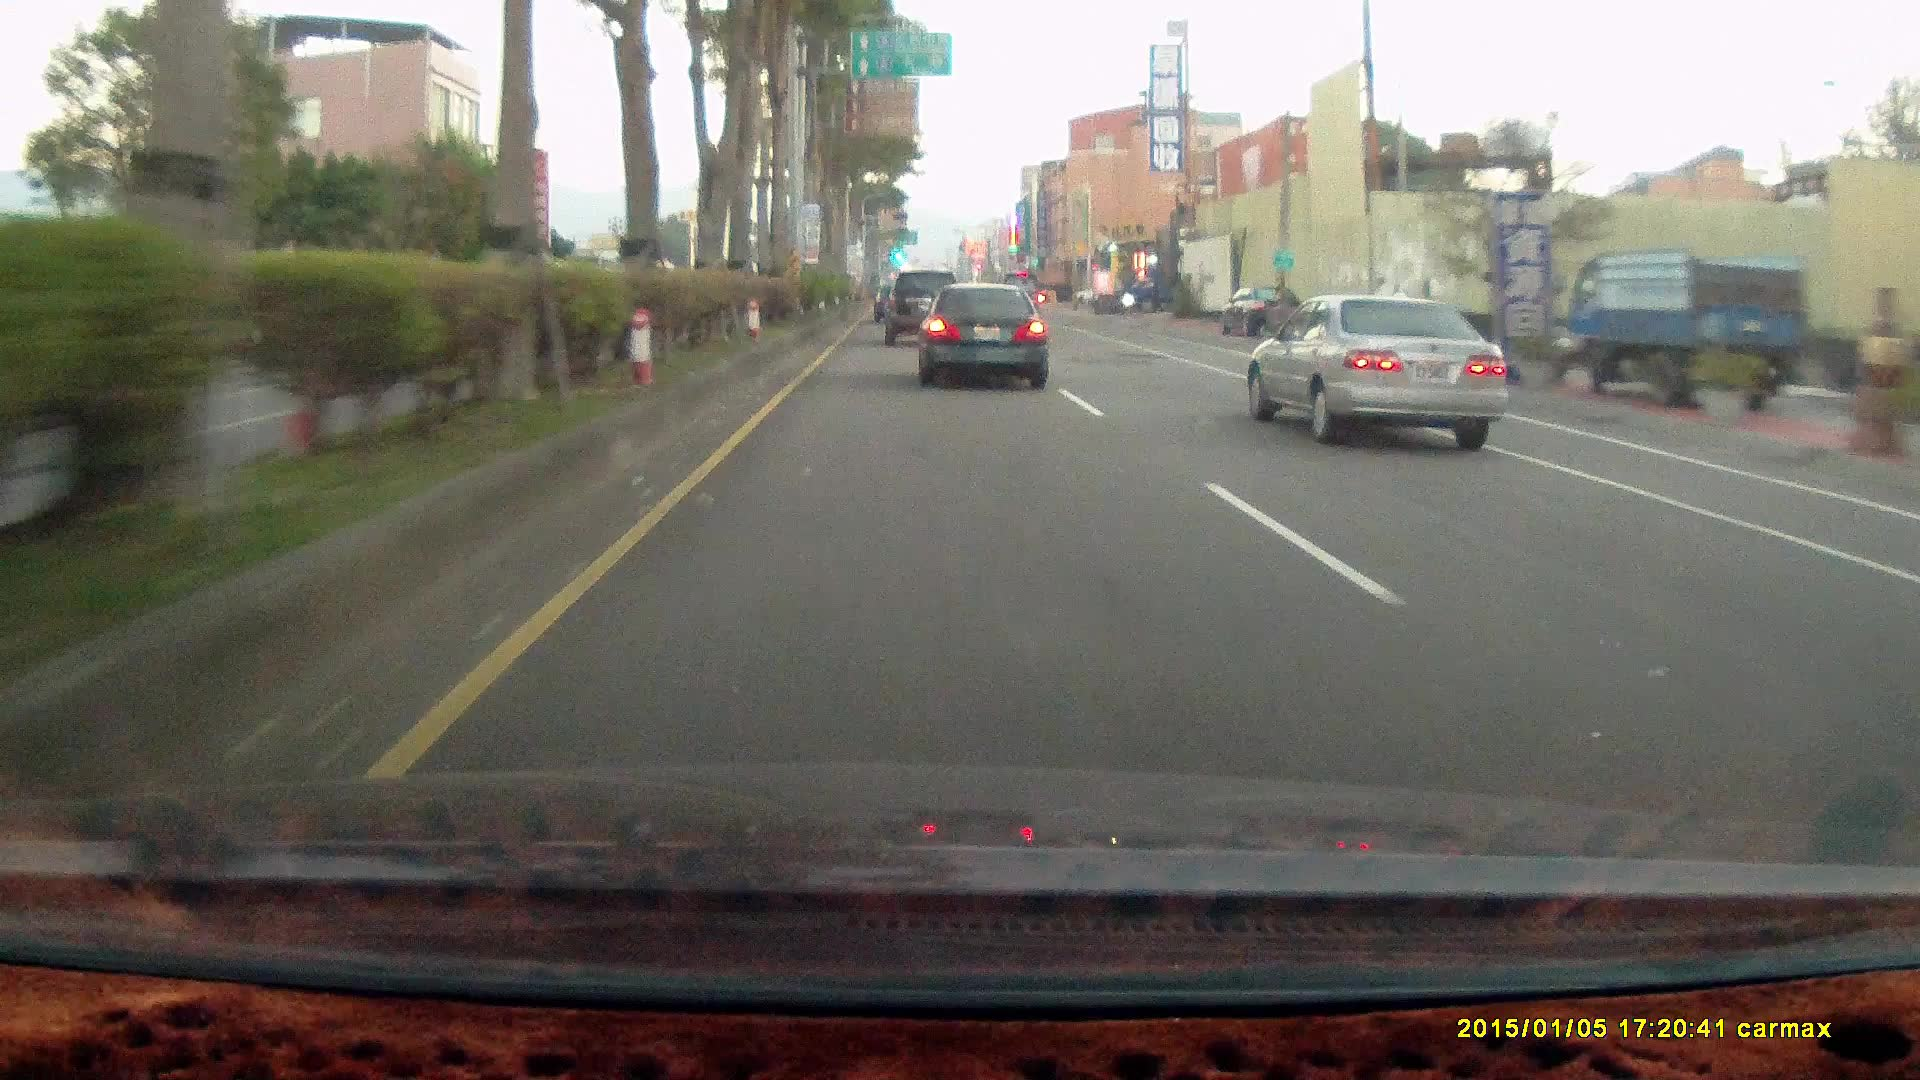vehicle: (1557, 248, 1815, 415), (1258, 298, 1524, 458), (1244, 293, 1507, 452), (1563, 249, 1807, 413), (914, 282, 1048, 388), (916, 287, 1048, 392), (884, 268, 963, 347), (1218, 290, 1305, 342), (1120, 266, 1195, 314)
